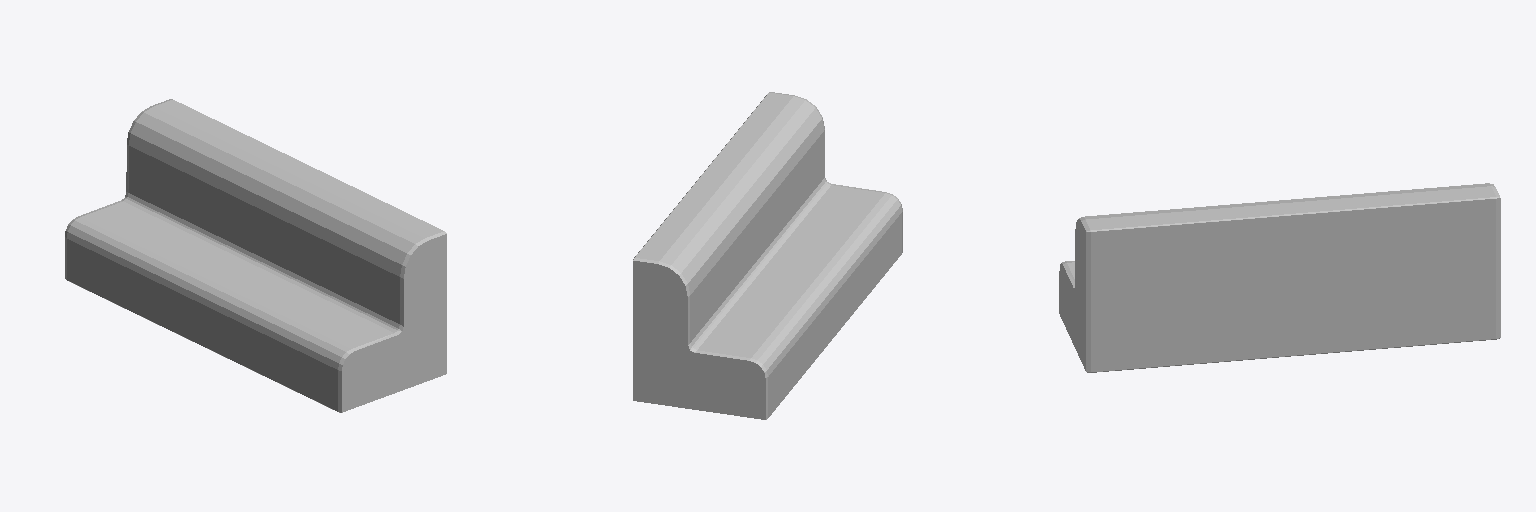
File: seat_14.obj
The picture shows the model from 3 angles: view 1: azimuth 30°, elevation 25°; view 2: azimuth 150°, elevation 25°; view 3: azimuth 270°, elevation 25°; orthographic projection.
Visible parts, largest first — view 1: Cadeira1.013_Cube.013; view 2: Cadeira1.013_Cube.013; view 3: Cadeira1.013_Cube.013.
Boxes of the visible parts, x1=… form: Cadeira1.013_Cube.013: x1=65, y1=99, x2=446, y2=412; Cadeira1.013_Cube.013: x1=633, y1=92, x2=902, y2=419; Cadeira1.013_Cube.013: x1=1059, y1=183, x2=1500, y2=372.
Bounding box in the file's own units: 1.68 × 1.2 × 3.38.